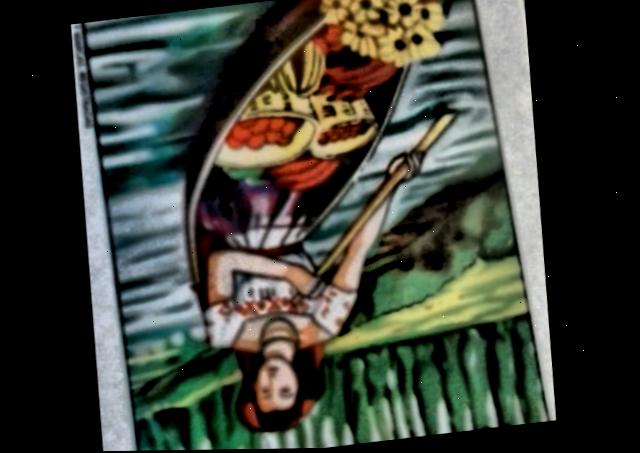La Chalupa: (84, 0, 550, 451)
